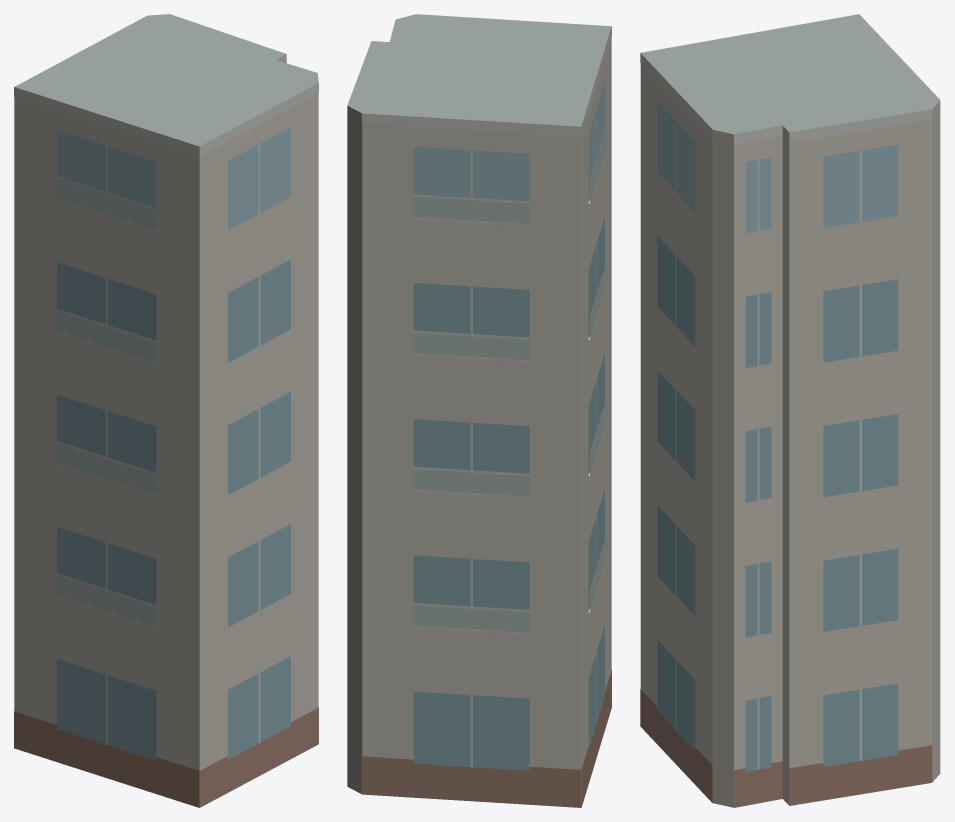
Rendered from survey-upis-32861133.glb.
3 views of the same model, side by side, from view 1: azimuth 30°, elevation 25°; view 2: azimuth 150°, elevation 25°; view 3: azimuth 270°, elevation 25° (orthographic). The views are drawn at different scales.
Visible parts, largest first — view 1: survey-upis-32861133.tmp; view 2: survey-upis-32861133.tmp; view 3: survey-upis-32861133.tmp.
Part boxes in pixels (box(x1,y1,x2,y2)): survey-upis-32861133.tmp: box(14, 14, 318, 807); survey-upis-32861133.tmp: box(347, 14, 611, 807); survey-upis-32861133.tmp: box(640, 14, 940, 807).
Size of the model in its own units: 6.18 by 16.11 by 6.52.
